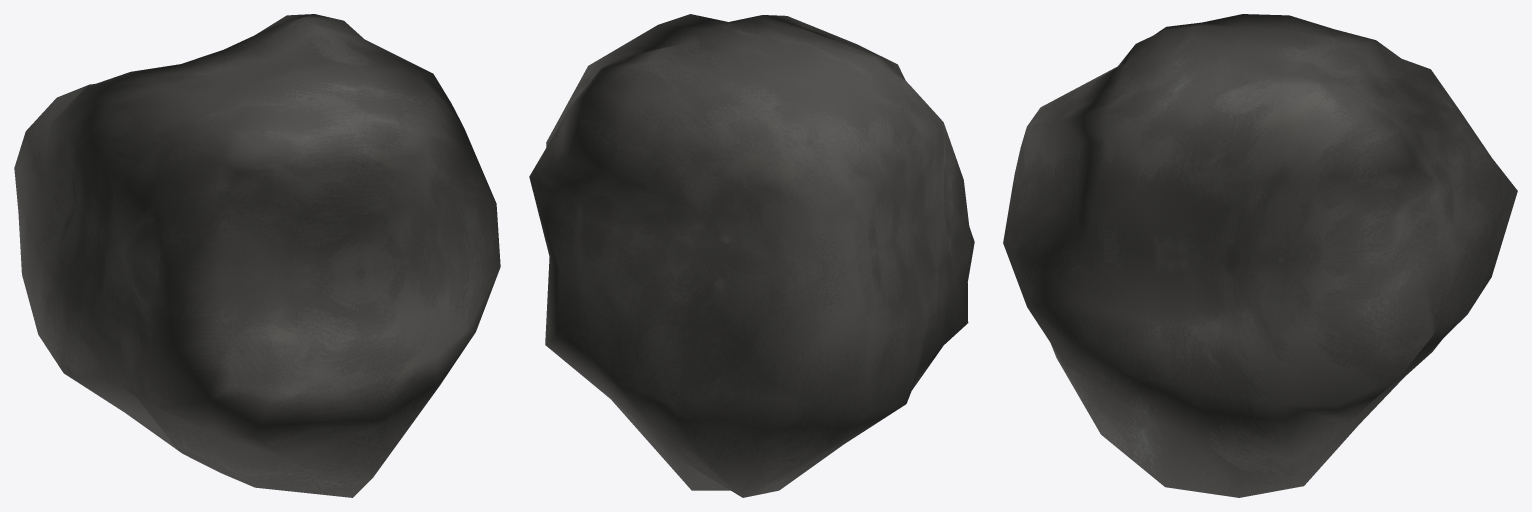
The model's file is Rock02_Geo.fbx.
3 views of the same model, side by side, from view 1: azimuth 30°, elevation 25°; view 2: azimuth 150°, elevation 25°; view 3: azimuth 270°, elevation 25° (orthographic).
Visible parts, largest first — view 1: Rock02_Geo; view 2: Rock02_Geo; view 3: Rock02_Geo.
Part boxes in pixels (box(x1,y1,x2,y2)): Rock02_Geo: box(14, 14, 500, 497); Rock02_Geo: box(529, 14, 974, 497); Rock02_Geo: box(1003, 14, 1517, 497).
Bounding box in the file's own units: 69.34 × 78.56 × 85.24.
